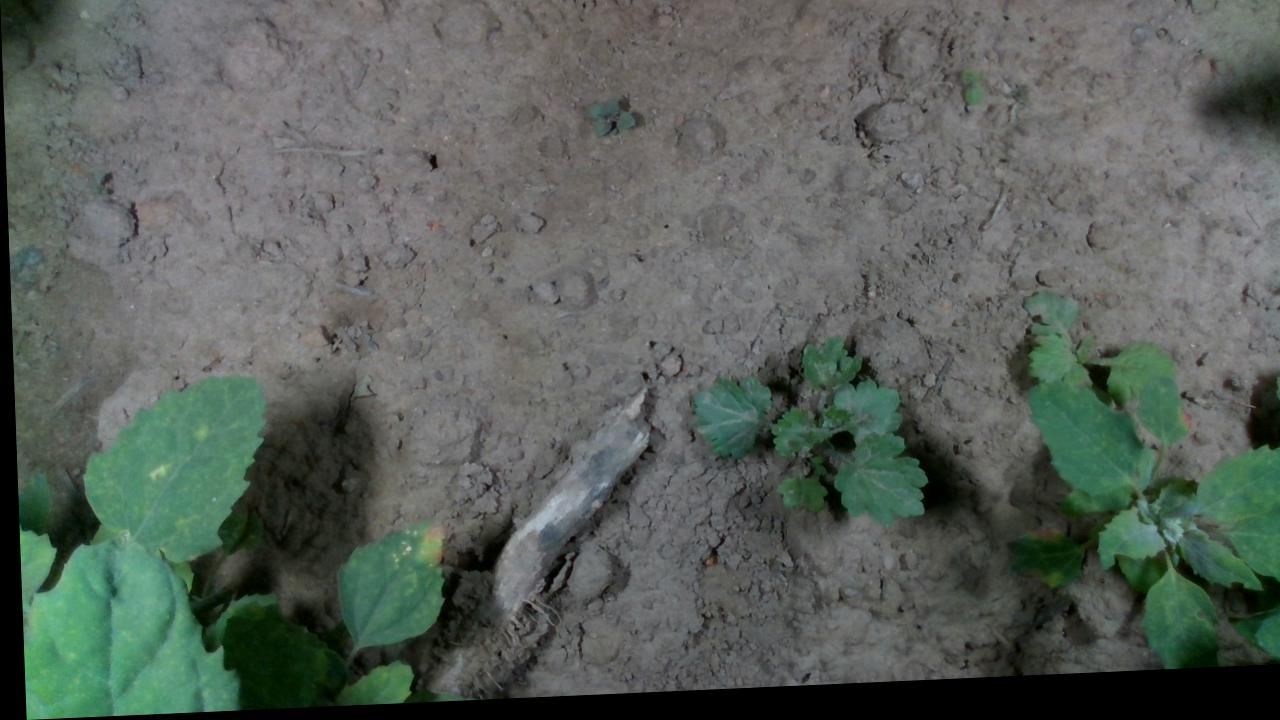weed: (581, 97, 634, 146), (955, 73, 980, 119)
